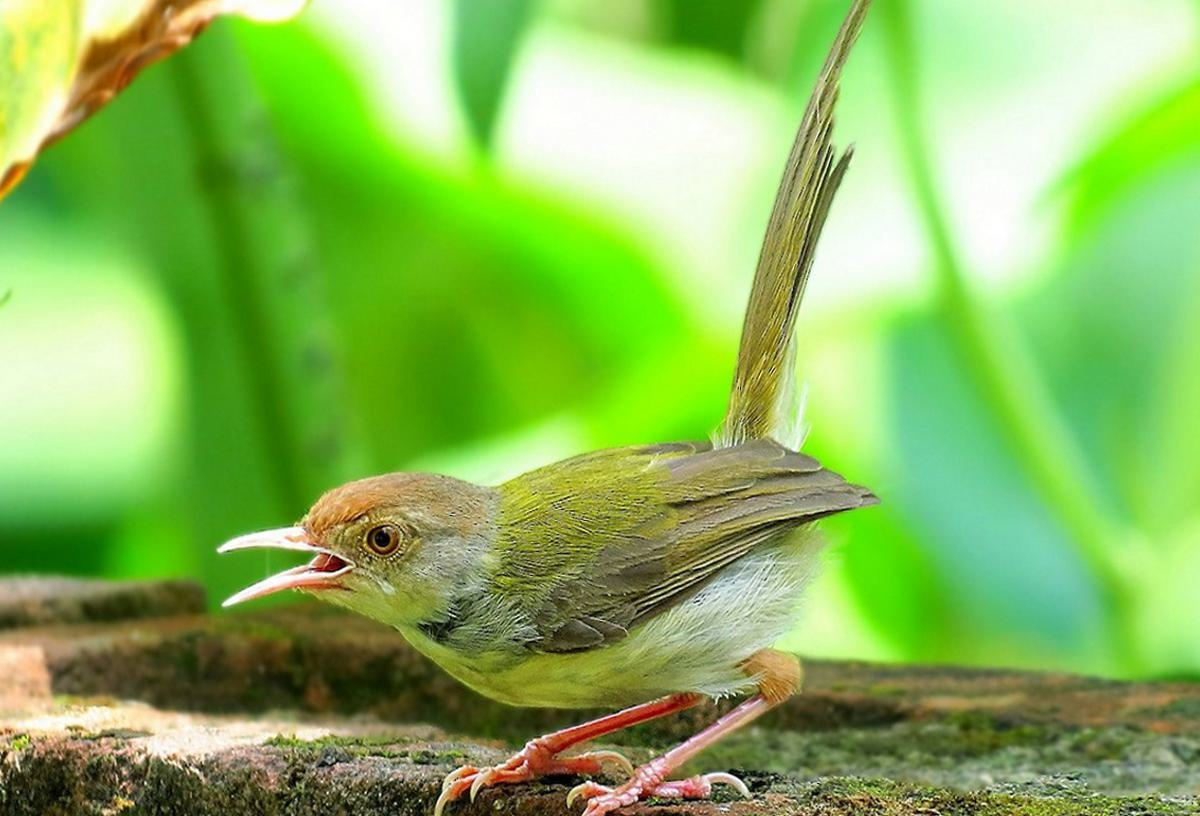tailorbird: (207, 375, 919, 794)
